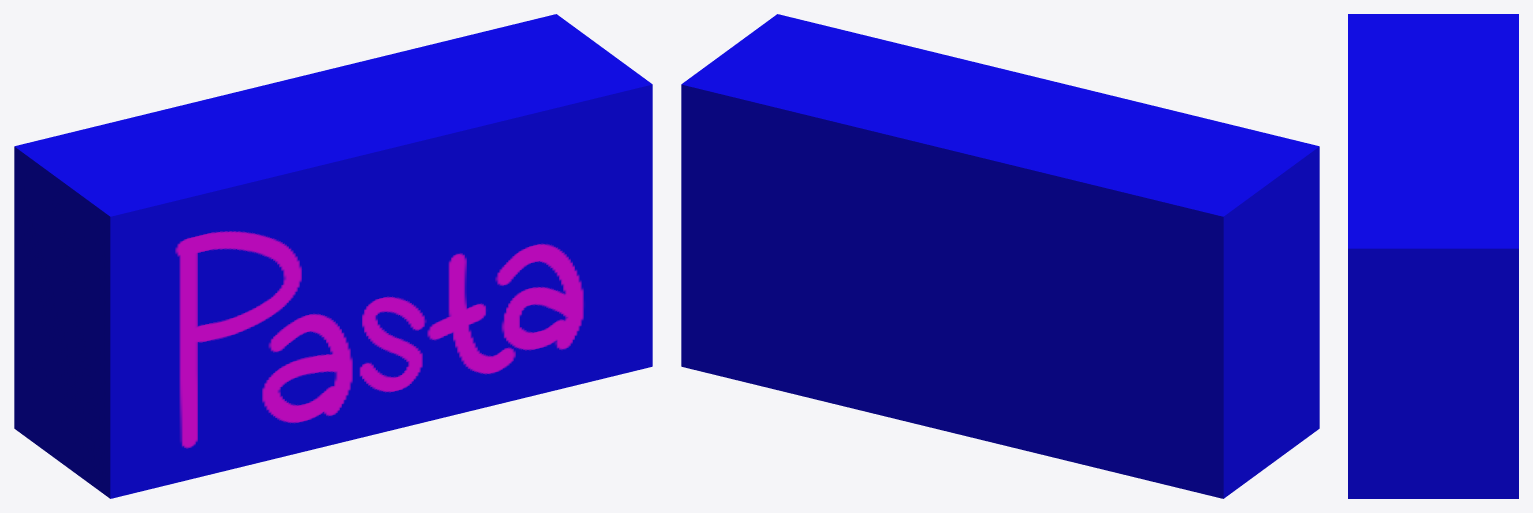
Rendered from Collectible Item.fbx_Pasta.fbx.
3 views of the same model, side by side, from view 1: azimuth 30°, elevation 25°; view 2: azimuth 150°, elevation 25°; view 3: azimuth 270°, elevation 25° (orthographic). The views are drawn at different scales.
Visible parts, largest first — view 1: Pasta; view 2: Pasta; view 3: Pasta.
Part boxes in pixels (box(x1,y1,x2,y2)): Pasta: box(14, 14, 652, 498); Pasta: box(681, 14, 1319, 498); Pasta: box(1348, 14, 1518, 498).
Bounding box in the file's own units: 3 × 1.49 × 0.9216.
Materials: 1 (1 with a texture image).
